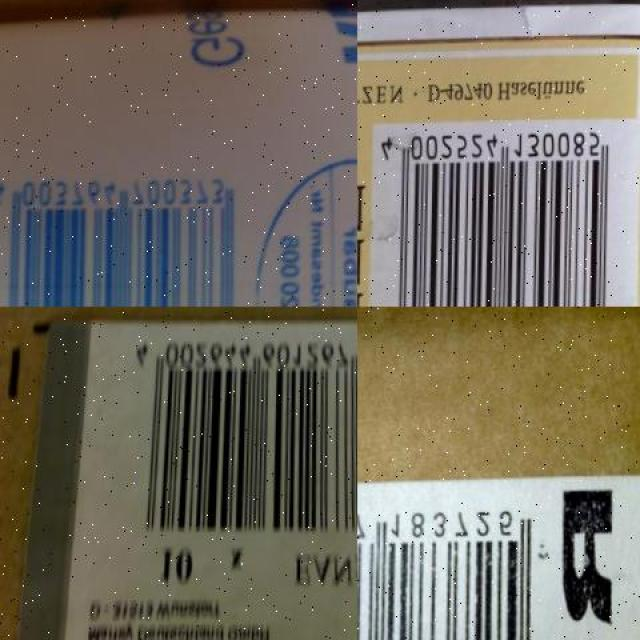Barcode: (111, 326, 357, 546), (368, 120, 635, 307), (0, 145, 256, 307), (357, 490, 553, 640)
